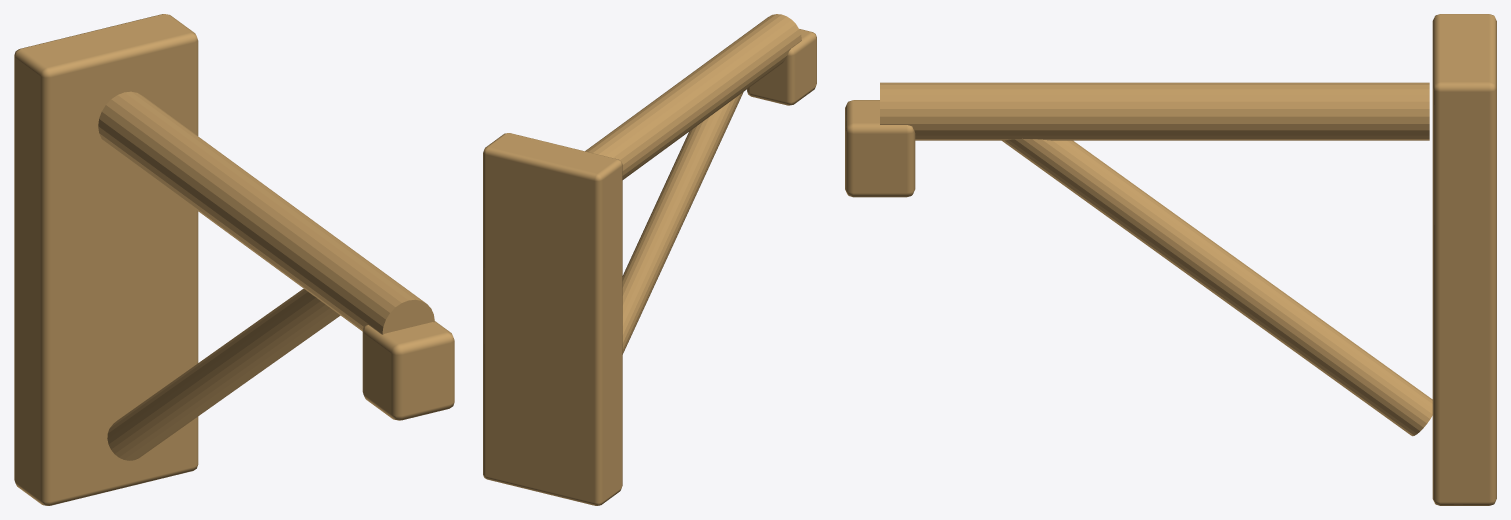
File: fantasy-bathhouse-and-thermal-sanctuary-fantasy-bathho-8673bfc5__29473.glb
The picture shows the model from 3 angles, left to right: view 1: azimuth 30°, elevation 25°; view 2: azimuth 150°, elevation 25°; view 3: azimuth 270°, elevation 25°; orthographic projection. The views are drawn at different scales.
Parts seen in each view (by area): view 1: fantasy-bathhouse-and-thermal-sanctuary-lantern-wall-bracket; view 2: fantasy-bathhouse-and-thermal-sanctuary-lantern-wall-bracket; view 3: fantasy-bathhouse-and-thermal-sanctuary-lantern-wall-bracket.
Part boxes in pixels (left/top/right/bottom): fantasy-bathhouse-and-thermal-sanctuary-lantern-wall-bracket: left=14, top=14, right=454, bottom=505; fantasy-bathhouse-and-thermal-sanctuary-lantern-wall-bracket: left=483, top=14, right=816, bottom=505; fantasy-bathhouse-and-thermal-sanctuary-lantern-wall-bracket: left=845, top=14, right=1496, bottom=505.
Size of the model in its own units: 0.15 by 0.4 by 0.5575.
